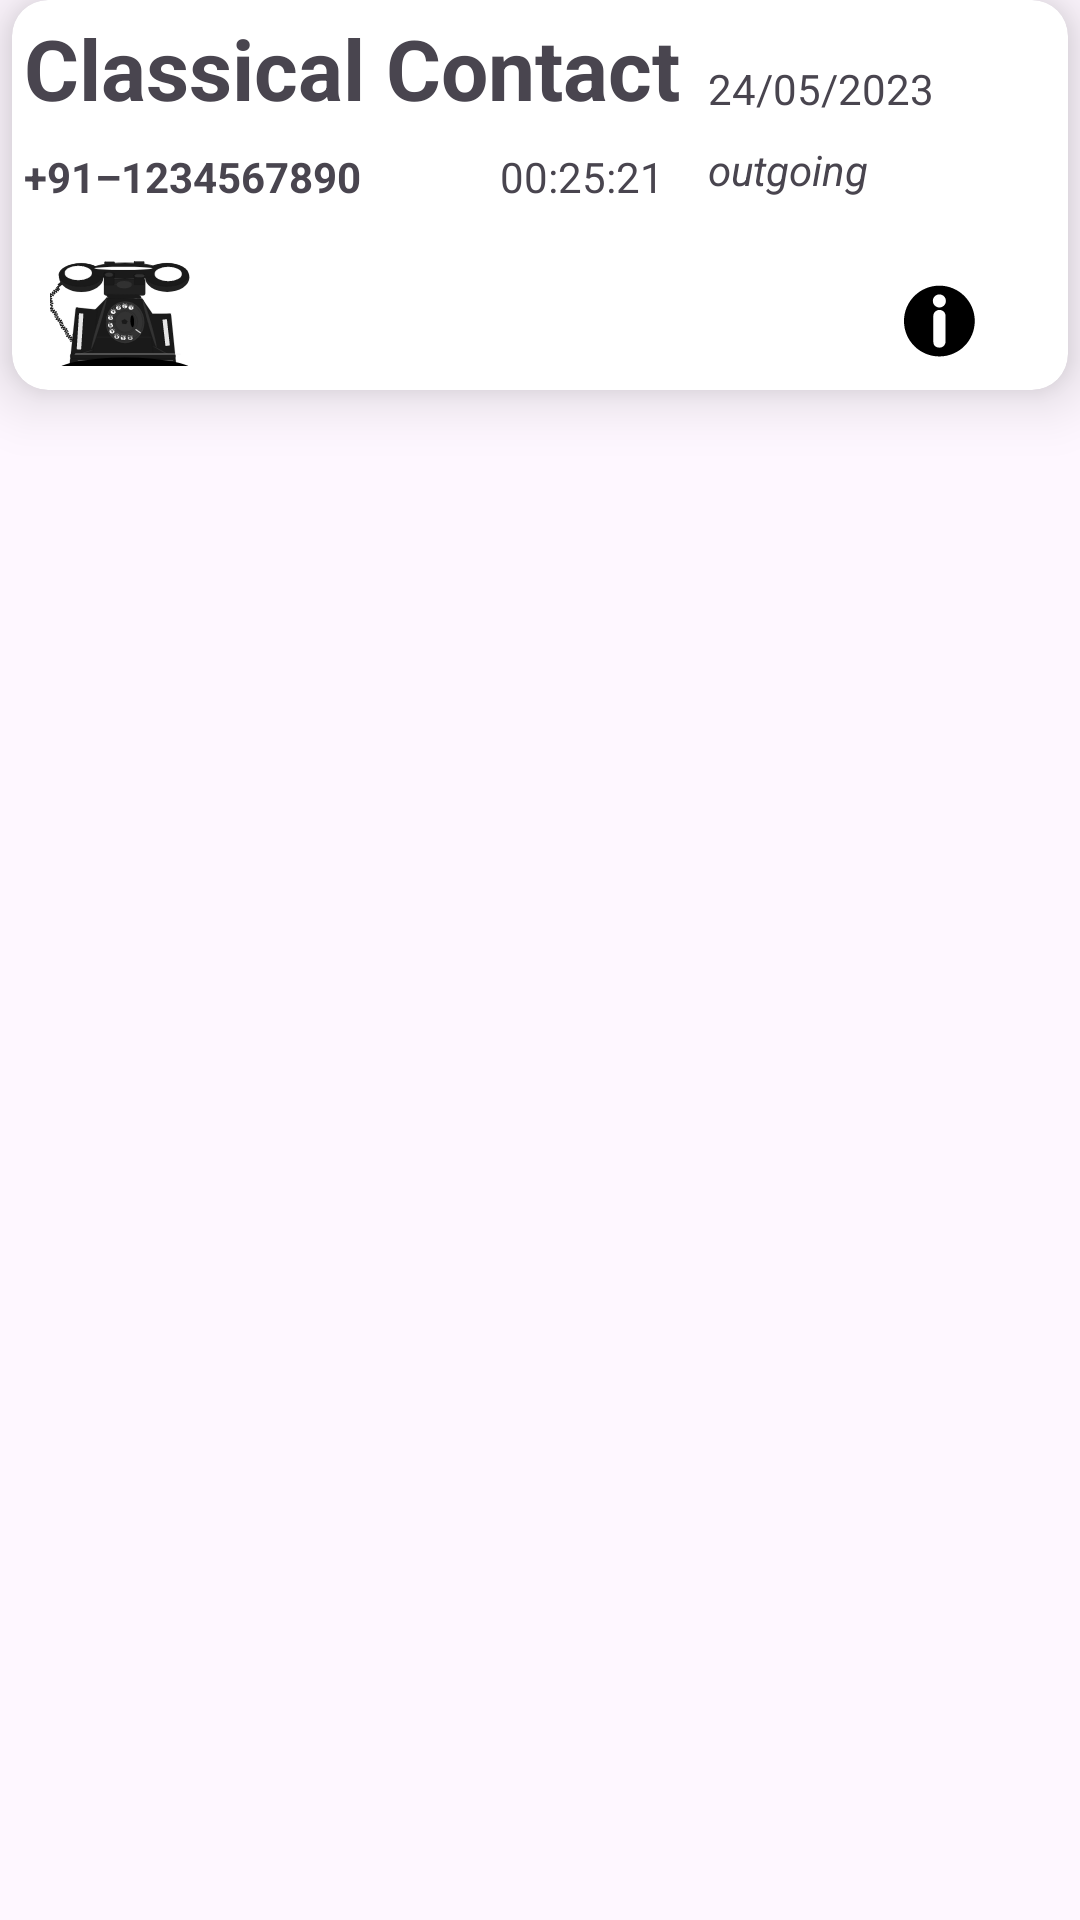

Screen size 1080×1920. Icon name, then its box in pixels as (x1, y1, x2, y2):
compressed call: (50, 261, 190, 366)
info: (904, 285, 975, 357)
